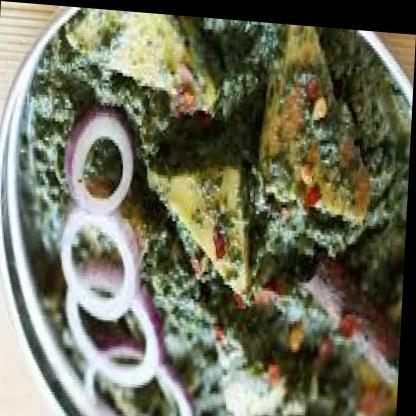palak_paneer: (18, 2, 416, 416)
